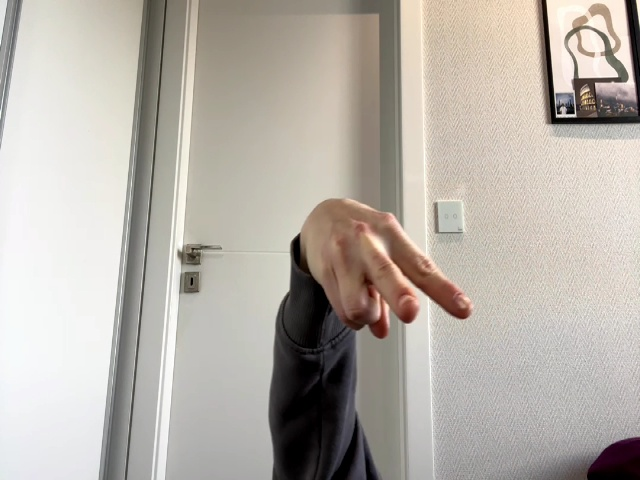U: (300, 198, 472, 338)
